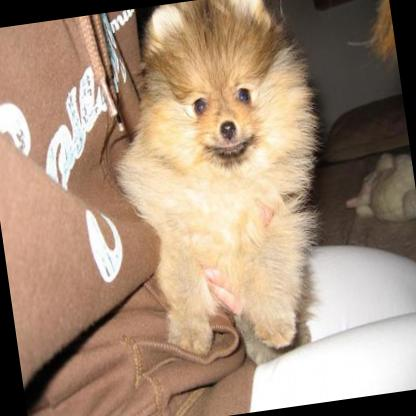Pomeranian: (88, 0, 345, 380)
